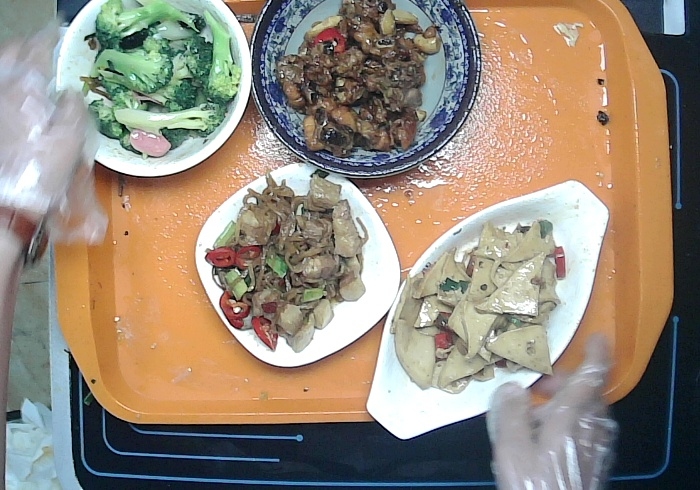ZNLD-Qing_Hua_Wan: (242, 1, 489, 182)
ZNLD-Si_Fang_Wan: (182, 158, 406, 371)
ZNLD-Tang_Wan: (53, 1, 255, 181)
ZNLD-Yu_Pan: (365, 176, 615, 443)
